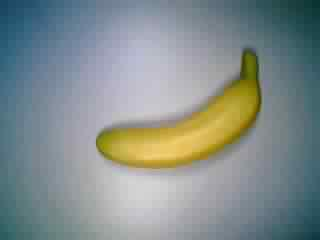banana: (95, 50, 263, 166)
